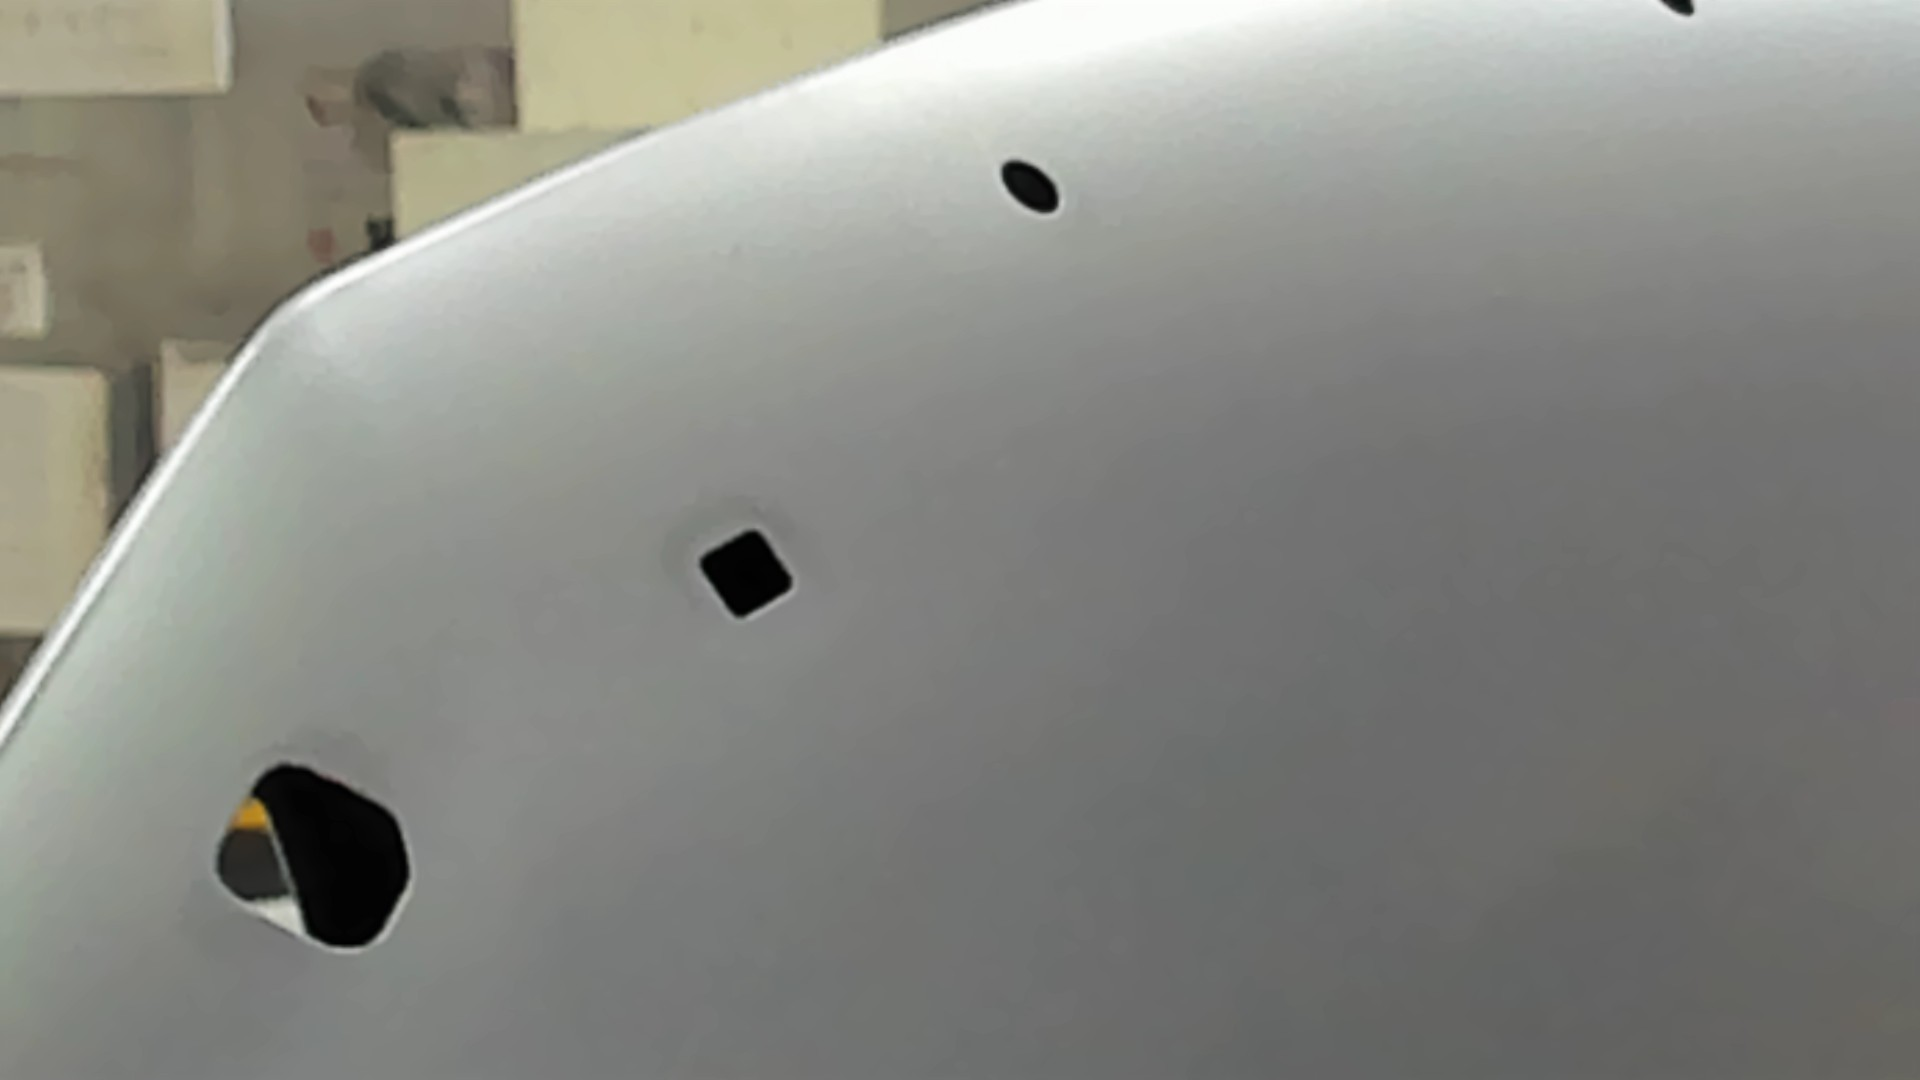chico: (998, 153, 1062, 218), (1659, 1, 1698, 20)
grande: (212, 762, 415, 956)
mediano: (696, 524, 796, 622)
